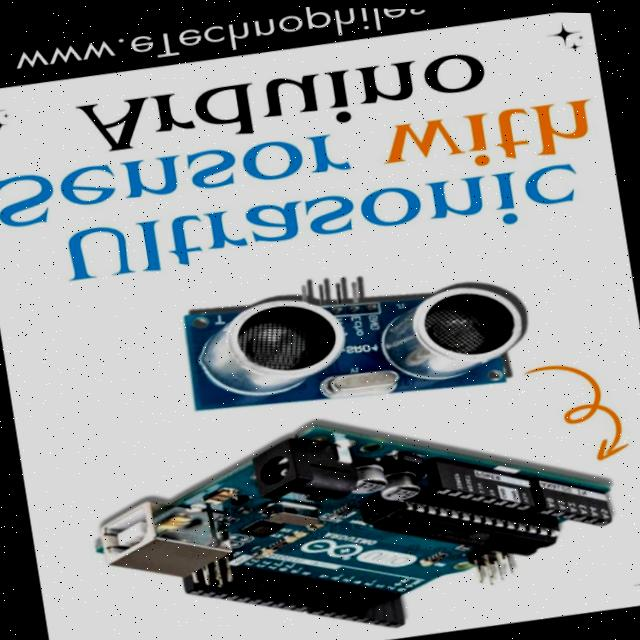Arduino: (71, 414, 629, 634)
Ultrasonic Sensor: (167, 260, 541, 420)
